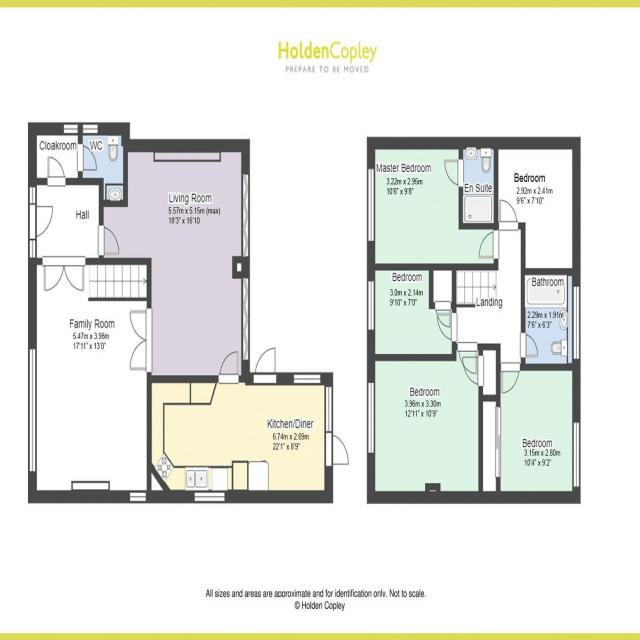DOOR: (28, 203, 54, 240), (253, 346, 277, 385), (325, 432, 350, 467), (218, 349, 240, 384), (98, 225, 121, 257), (500, 363, 521, 395), (478, 229, 499, 259), (498, 199, 518, 230), (444, 157, 464, 188)
DOUBLE DOOR: (41, 255, 87, 296), (127, 305, 153, 373)
ROOM: (99, 135, 250, 379), (147, 346, 352, 504), (29, 257, 152, 504), (367, 137, 499, 271), (496, 363, 581, 506), (494, 136, 581, 274)
WINDOW: (29, 348, 37, 472), (572, 420, 581, 489), (367, 167, 375, 243), (573, 285, 581, 361), (367, 381, 375, 455), (193, 491, 226, 504), (367, 280, 375, 331), (292, 373, 321, 386), (325, 385, 333, 432), (128, 490, 147, 504), (63, 122, 79, 135), (82, 122, 98, 135)
